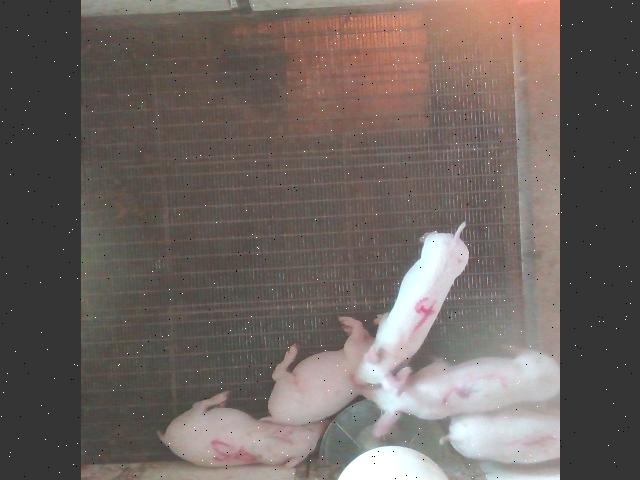pig-1: (445, 410, 559, 462)
pig-3: (360, 350, 559, 436)
pig-4: (354, 222, 468, 390)
pig-5: (158, 391, 326, 468)
